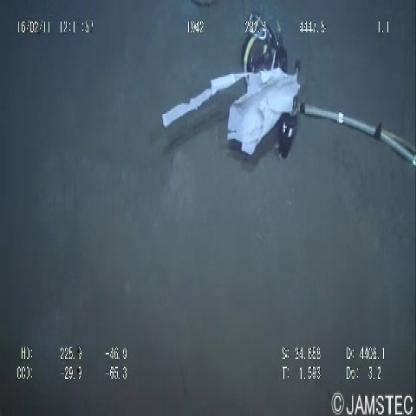Rác: (160, 63, 302, 156)
